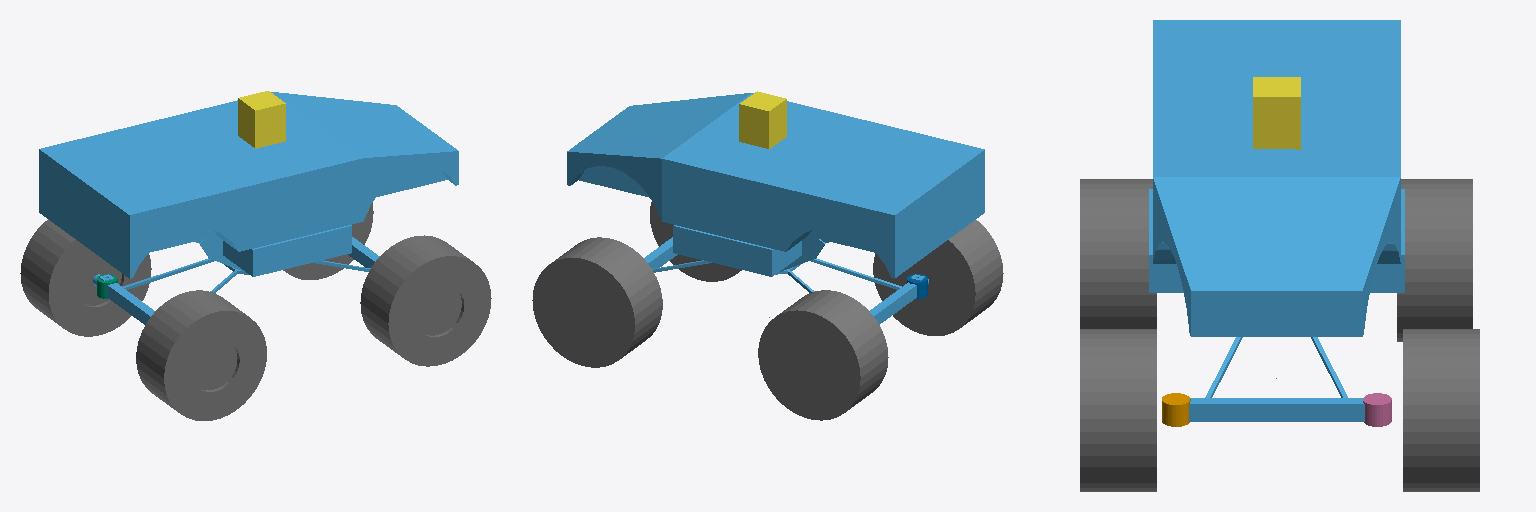
robot.urdf — summit:
<?xml version="1.0"?>
<robot name="summit" 

       xmlns:xi="http://www.w3.org/2001/XInclude"
       xmlns:gazebo="http://playerstage.sourceforge.net/gazebo/xmlschema/#gz"
       xmlns:model="http://playerstage.sourceforge.net/gazebo/xmlschema/#model"
       xmlns:sensor="http://playerstage.sourceforge.net/gazebo/xmlschema/#sensor"
       xmlns:body="http://playerstage.sourceforge.net/gazebo/xmlschema/#body"
       xmlns:geom="http://playerstage.sourceforge.net/gazebo/xmlschema/#geom"
       xmlns:joint="http://playerstage.sourceforge.net/gazebo/xmlschema/#joint"
       xmlns:interface="http://playerstage.sourceforge.net/gazebo/xmlschema/#interface"
       xmlns:rendering="http://playerstage.sourceforge.net/gazebo/xmlschema/#rendering"
       xmlns:renderable="http://playerstage.sourceforge.net/gazebo/xmlschema/#renderable"
       xmlns:controller="http://playerstage.sourceforge.net/gazebo/xmlschema/#controller"
       xmlns:physics="http://playerstage.sourceforge.net/gazebo/xmlschema/#physics">


  <!-- BASE FOOTPRINT -->

  <!-- base_footprint is a fictitious link(frame) that is on the ground right below base_link origin,
             navigation stack depends on this frame -->
  <link name="base_footprint">
      <inertial>
          <mass value="0.0001" />
          <origin xyz="0 0 0" />
      <inertia ixx="0.0001" ixy="0.0" ixz="0.0"
                         iyy="0.0001" iyz="0.0" 
                         izz="0.0001" />
      </inertial>

      <visual>
          <origin xyz="0 0 0" rpy="0 0 0" />
          <geometry>
             <box size="0.001 0.001 0.001" />
          </geometry>
      </visual>

      <collision>
          <origin xyz="0 0 0.0" rpy="0 0 0" />
          <geometry>
            <box size="0.001 0.001 0.001" />
         </geometry>
     </collision>
  </link>

  <gazebo reference="base_footprint">
    <material>Gazebo/Green</material>
    <turnGravityOff>false</turnGravityOff>
  </gazebo>

  <joint name="base_footprint_joint" type="fixed">
     <!--NB: While you would think this would make it go up, it is oddly reversed.
      This moves the joint to 0,0,0 where we want it for rviz, etc. -->
     <!-- origin xyz="0 0 0.130" rpy="0 0 0" / -->
     <origin xyz="0 0 0.050" rpy="0 0 0"/>
     <parent link="base_footprint"/>
     <child link="base_link" />
  </joint>


  <!-- BASE_LINK (RED) -->

  <link name="base_link">
    <inertial>
      <mass value="6.5" />
      <origin xyz="0 0 0" />
      <inertia  ixx="0.21805" ixy="0.0"  ixz="-0.001"  iyy="0.33677"  iyz="0.0"  izz="0.20511" />
    </inertial>
    <visual>
       <origin xyz="0 0 0" rpy="0 0 0" />
       <geometry>
	 <mesh filename="package://summit_description/meshes/summit_chassis.stl"/>
       </geometry>
    </visual>
    <collision>
       <origin xyz="0 0 0.06" rpy="0 0 0 " />
       <geometry>
         <mesh filename="package://summit_description/meshes/summit_chassis.stl"/>
	 <!-- box size = "0.56 0.4 0.2"/ -->
       </geometry>
    </collision>     
  </link>
  <gazebo reference="base_link">
    <material>Gazebo/Red</material>
    <turnGravityOff>false</turnGravityOff>
  </gazebo>

<!-- DIRECTION BACK LEFT         -->
<!-- =========================== -->

  <link name="back_left_wheel_dir">
    <inertial>
      <mass value="0.1" />
      <!-- center of mass (com) is defined w.r.t. link local coord system -->
      <origin xyz="0 0 0" />
      <inertia  ixx="0.01" ixy="0.0"  ixz="0.0"  iyy="0.01"  iyz="0.0"  izz="0.01" />
    </inertial>
    <visual>
       <!-- visual origin is defined w.r.t. link local coordinate system -->
       <origin xyz="0 0 0" rpy="0 0 1.5708" />
       <geometry>
         <cylinder radius="0.015" length="0.025"/>
         <!-- mesh filename="package://summit_description/meshes/wheel_axis.stl"/-->
       </geometry>
    </visual>
    <collision>
       <!-- collision origin is defined w.r.t. link local coord. system -->
       <origin xyz="0 0 0" rpy="0 0 0 " />
       <geometry>
         <cylinder radius="0.015" length="0.025"/>
       </geometry>
    </collision>
  </link>
  <gazebo reference="back_left_wheel_dir">
    <material>Gazebo/Green</material>
    <turnGravityOff>false</turnGravityOff>
  </gazebo>

  <joint name="joint_back_left_wheel_dir" type="revolute">
    <parent link="base_link"/>
    <child link="back_left_wheel_dir"/>
    <origin xyz="-0.185 0.105 0" rpy="0 0 0" />
    <axis xyz="0 0 1" rpy="0 0 0" />
    <limit effort="3.0" velocity="3.0" lower="-0.7854" upper="0.7854"/>
  </joint>

  <transmission name="joint_blw_trans_dir" type="pr2_mechanism_model/SimpleTransmission">
     <actuator name="joint_blw_motor_dir" />
     <joint name="joint_back_left_wheel_dir" />
     <mechanicalReduction>1</mechanicalReduction>
     <motorTorqueConstant>1</motorTorqueConstant>
  </transmission>


  <!-- BACK LEFT WHEEL -->
  <link name="back_left_wheel">
    <inertial>
      <mass value="1.023" />
      <origin xyz="0 0 0" /> 
      <inertia  ixx="0.0027" ixy="0.0"  ixz="0.0"  iyy="0.0039"  iyz="0.0"  izz="0.0027" />
    </inertial>
    <visual>
       <origin xyz="0 0 0" rpy="0 0 0" /> 
       <geometry>
	 <mesh filename="package://summit_description/meshes/wheel.stl"/>
       </geometry>
        <material name="grey">
             <color rgba="0.5 0.5 0.5 1"/>
        </material>
    </visual>
    <collision>
       <origin xyz="0 0 0" rpy="0 0 0" />
       <geometry>
         <mesh filename="package://summit_description/meshes/wheel.stl"/>
       </geometry>
    </collision>
  </link>
  <gazebo reference="back_left_wheel">
    <mu1 value="50.0"/> <!-- 50.0 2.0 -->
    <mu2 value="50.0"/> <!-- 0.5 0.5 -->
    <fdir1 value="1 0 0"/>
    <material>Gazebo/Grey</material>
    <turnGravityOff>false</turnGravityOff>
  </gazebo>

  <joint name="joint_back_left_wheel" type="continuous">
    <parent link="back_left_wheel_dir"/>
    <child link="back_left_wheel"/>
    <origin xyz="0.0 0.060 0" rpy="0 0 0" /> 
    <axis xyz="0 1 0" rpy="0 0 0" />
    <limit effort="100" velocity="100"/>
    <joint_properties damping="0.0" friction="0.0"/>
  </joint>

  <transmission name="joint_blw_trans" type="pr2_mechanism_model/SimpleTransmission">
     <actuator name="joint_blw_motor" />
     <joint name="joint_back_left_wheel" />
     <mechanicalReduction>1</mechanicalReduction>
     <motorTorqueConstant>1</motorTorqueConstant>
  </transmission>

<!-- DIRECTION BACK RIGHT        -->
<!-- =========================== -->
  <link name="back_right_wheel_dir">
    <inertial>
      <mass value="0.1" />
      <!-- center of mass (com) is defined w.r.t. link local coord system -->
      <origin xyz="0 0 0" />
      <inertia  ixx="0.01" ixy="0.0"  ixz="0.0"  iyy="0.01"  iyz="0.0"  izz="0.01" />
    </inertial>
    <visual>
       <!-- visual origin is defined w.r.t. link local coordinate system -->
       <origin xyz="0 0 0" rpy="0 0 0" />
       <geometry>
         <cylinder radius="0.015" length="0.025"/>
       </geometry>
    </visual>
    <collision>
       <!-- collision origin is defined w.r.t. link local coord. system -->
       <origin xyz="0 0 0" rpy="0 0 0 " />
       <geometry>
         <cylinder radius="0.015" length="0.025"/>      
       </geometry>
    </collision>
  </link>
  <gazebo reference="back_right_wheel_dir">
    <material>Gazebo/Green</material>
    <turnGravityOff>false</turnGravityOff>
  </gazebo>

  <joint name="joint_back_right_wheel_dir" type="revolute">
    <parent link="base_link"/>
    <child link="back_right_wheel_dir"/>
    <origin xyz="-0.185 -0.105 0" rpy="0 0 0" />
    <axis xyz="0 0 1" rpy="0 0 0" />
    <limit effort="3.0" velocity="3.0" lower="-0.7854" upper="0.7854"/>
  </joint>

  <transmission name="joint_brw_trans_dir" type="pr2_mechanism_model/SimpleTransmission">
     <actuator name="joint_brw_motor_dir" />
     <joint name="joint_back_right_wheel_dir" />
     <mechanicalReduction>1</mechanicalReduction>
     <motorTorqueConstant>1</motorTorqueConstant>
  </transmission>

  <!-- BACK RIGHT WHEEL -->
  <link name="back_right_wheel">
    <inertial>
      <mass value="1.023" />
      <origin xyz="0 0 0" />
      <inertia  ixx="0.0027" ixy="0.0"  ixz="0.0"  iyy="0.0039"  iyz="0.0"  izz="0.0027" />
    </inertial>
    <visual>
       <origin xyz="0 0 0" rpy="0 0 0" /> 
       <geometry>
	 <!--mesh filename="package://guardian_description/meshes/wheel_link.dae" scale="1.8 1.8 1.8"/ -->
         <mesh filename="package://summit_description/meshes/wheel.stl"/>
       </geometry>
        <material name="grey">
                <color rgba="0.5 0.5 0.5 1"/>
        </material>
    </visual>
    <collision>
       <origin xyz="0 0 0" rpy="0 0 0" /> 
       <geometry>
	 <!-- mesh filename="package://guardian_description/meshes/wheel_link.dae" scale="1.8 1.8 1.8"/ -->
         <mesh filename="package://summit_description/meshes/wheel.stl"/>
       </geometry>
    </collision>
  </link>
  <gazebo reference="back_right_wheel">
    <mu1 value="50.0"/> <!-- 50.0 2.0 -->
    <mu2 value="50.0"/> <!-- 0.5 0.5 -->
    <fdir1 value="1 0 0"/>
    <material>Gazebo/Grey</material>
    <turnGravityOff>false</turnGravityOff>
  </gazebo>

  <joint name="joint_back_right_wheel" type="continuous">
    <parent link="back_right_wheel_dir"/>
    <child link="back_right_wheel"/>
    <origin xyz="0.0 -0.060 0" rpy="0 0 0" />
    <axis xyz="0 1 0" />
    <limit effort="100" velocity="100"/>
    <joint_properties damping="0.0" friction="0.0"/>
  </joint>

  <transmission name="joint_brw_trans" type="pr2_mechanism_model/SimpleTransmission">
     <actuator name="joint_brw_motor" />
     <joint name="joint_back_right_wheel" />
     <mechanicalReduction>1</mechanicalReduction>
     <motorTorqueConstant>1</motorTorqueConstant>
  </transmission>

<!-- DIRECTION FORWARD LEFT      -->
<!-- =========================== -->

  <link name="front_left_wheel_dir">
    <inertial>
      <mass value="0.1" />
      <!-- center of mass (com) is defined w.r.t. link local coord system -->
      <origin xyz="0 0 0" />
      <inertia  ixx="0.01" ixy="0.0"  ixz="0.0"  iyy="0.01"  iyz="0.0"  izz="0.01" />
    </inertial>
    <visual>
       <!-- visual origin is defined w.r.t. link local coordinate system -->
       <origin xyz="0 0 0" rpy="0 0 0" />
       <geometry>
         <cylinder radius="0.015" length="0.025"/>
       </geometry>
    </visual>
    <collision>
       <!-- collision origin is defined w.r.t. link local coord. system -->
       <origin xyz="0 0 0" rpy="0 0 0 " />
       <geometry>
         <cylinder radius="0.015" length="0.025"/>
       </geometry>
    </collision>
  </link>
  <gazebo reference="front_left_wheel_dir">
    <material>Gazebo/Green</material>
    <turnGravityOff>false</turnGravityOff>
  </gazebo>

  <joint name="joint_front_left_wheel_dir" type="revolute">
    <parent link="base_link"/>
    <child link="front_left_wheel_dir"/>
    <origin xyz="0.185 0.105 0" rpy="0 0 0" />
    <axis xyz="0 0 1" rpy="0 0 0" />
    <limit effort="3.0" velocity="3.0" lower="-0.7854" upper="0.7854"/>
  </joint>

  <transmission name="joint_flw_trans_dir" type="pr2_mechanism_model/SimpleTransmission">
     <actuator name="joint_flw_motor_dir" />
     <joint name="joint_front_left_wheel_dir" />
     <mechanicalReduction>1</mechanicalReduction>
     <motorTorqueConstant>1</motorTorqueConstant>
  </transmission>

  <!-- FRONT LEFT WHEEL (GREY) -->
  <link name="front_left_wheel">
    <inertial>
      <mass value="1.023" />
      <origin xyz="0 0 0" />
      <inertia  ixx="0.0027" ixy="0.0"  ixz="0.0"  iyy="0.0039"  iyz="0.0"  izz="0.0027" />
    </inertial>
    <visual>
       <origin xyz="0 0 0" rpy="0 0 0" /> 
       <geometry>
	 <!-- mesh filename="package://guardian_description/meshes/wheel_link.dae" scale="1.8 1.8 1.8"/ -->
         <mesh filename="package://summit_description/meshes/wheel.stl"/>
       </geometry>
	<material name="gray">
		<color rgba="0.5 0.5 0.5 1"/>
      	</material>
    </visual>
    <collision>
       <origin xyz="0 0 0" rpy="0 0 0" /> 
       <geometry>
	 <!-- mesh filename="package://guardian_description/meshes/wheel_link.dae" scale="1.8 1.8 1.8"/ -->
         <mesh filename="package://summit_description/meshes/wheel.stl"/>
       </geometry>
    </collision>
  </link>
  <gazebo reference="front_left_wheel">
    <mu1 value="50.0"/> <!-- 50.0 2.0 -->
    <mu2 value="50.0"/> <!-- 0.5 0.5 -->
    <fdir1 value="1 0 0"/>
    <material>Gazebo/Grey</material>
    <turnGravityOff>false</turnGravityOff>
  </gazebo>

  <joint name="joint_front_left_wheel" type="continuous">
    <parent link="front_left_wheel_dir"/>
    <child link="front_left_wheel"/>
    <origin xyz="0.0 0.0666666 0.0" rpy="0 0 0" />
    <axis xyz="0 1 0" />
    <limit effort="100" velocity="100"/>
    <joint_properties damping="0.0" friction="0.0"/>
  </joint>

  <transmission name="joint_flw_trans" type="pr2_mechanism_model/SimpleTransmission">
     <actuator name="joint_flw_motor" />
     <joint name="joint_front_left_wheel" />
     <mechanicalReduction>1</mechanicalReduction>
     <motorTorqueConstant>1</motorTorqueConstant>
  </transmission>


<!-- DIRECTION FORWARD RIGHT     -->
<!-- =========================== -->

  <link name="front_right_wheel_dir">
    <inertial>
      <mass value="0.1" />
      <!-- center of mass (com) is defined w.r.t. link local coord system -->
      <origin xyz="0 0 0" />
      <inertia  ixx="0.01" ixy="0.0"  ixz="0.0"  iyy="0.01"  iyz="0.0"  izz="0.01" />
    </inertial>
    <visual>
       <!-- visual origin is defined w.r.t. link local coordinate system -->
       <origin xyz="0 0 0" rpy="0 0 0" />
       <geometry>
         <cylinder radius="0.015" length="0.025"/>
       </geometry>
    </visual>
    <collision>
       <!-- collision origin is defined w.r.t. link local coord. system -->
       <origin xyz="0 0 0" rpy="0 0 0 " />
       <geometry>
         <cylinder radius="0.015" length="0.025"/>
       </geometry>
    </collision>
  </link>
  <gazebo reference="front_left_wheel_dir">
    <material>Gazebo/Green</material>
    <turnGravityOff>false</turnGravityOff>
  </gazebo>

  <joint name="joint_front_right_wheel_dir" type="revolute">
    <parent link="base_link"/>
    <child link="front_right_wheel_dir"/>
    <origin xyz="0.185 -0.105 0" rpy="0 0 0" />
    <axis xyz="0 0 1" rpy="0 0 0" />
    <limit effort="3.0" velocity="3.0" lower="-0.7854" upper="0.7854"/>
  </joint>

  <transmission name="joint_frw_trans_dir" type="pr2_mechanism_model/SimpleTransmission">
     <actuator name="joint_frw_motor_dir" />
     <joint name="joint_front_right_wheel_dir" />
     <mechanicalReduction>1</mechanicalReduction>
     <motorTorqueConstant>1</motorTorqueConstant>
  </transmission>


  <!-- FRONT RIGHT WHEEL (GREY) -->

  <link name="front_right_wheel">
    <inertial>
      <mass value="1.023" />
      <origin xyz="0 0 0" />
      <inertia  ixx="0.0027" ixy="0.0"  ixz="0.0"  iyy="0.0039"  iyz="0.0"  izz="0.0027" />
    </inertial>
    <visual>
       <origin xyz="0 0 0" rpy="0 0 0" /> 
       <geometry>
	 <!-- mesh filename="package://guardian_description/meshes/wheel_link.dae" scale="1.8 1.8 1.8"/ -->
         <mesh filename="package://summit_description/meshes/wheel.stl"/>
       </geometry>
	<material name="grey">
		<color rgba="0.5 0.5 0.5 1"/>
      	</material>
    </visual>
    <collision>
       <origin xyz="0 0 0" rpy="0 0 0" /> 
       <geometry>
	 <!-- mesh filename="package://guardian_description/meshes/wheel_link.dae" scale="1.8 1.8 1.8"/ -->
         <mesh filename="package://summit_description/meshes/wheel.stl"/>
       </geometry>
    </collision>
  </link>
  <gazebo reference="front_right_wheel">
    <mu1 value="50.0"/> <!-- 50.0 2.0 -->
    <mu2 value="50.0"/> <!-- 0.5 0.5 -->
    <fdir1 value="1 0 0"/>
    <material>Gazebo/Grey</material>
    <turnGravityOff>false</turnGravityOff>
  </gazebo>

  <joint name="joint_front_right_wheel" type="continuous">
    <parent link="front_right_wheel_dir"/>
    <child link="front_right_wheel"/>
    <origin xyz="0.0 -0.06 0" rpy="0 0 0" />
    <axis xyz="0 1 0" />
    <limit effort="100" velocity="100"/>
    <joint_properties damping="0.0" friction="0.0"/>
  </joint>

  <transmission name="joint_frw_trans" type="pr2_mechanism_model/SimpleTransmission">
     <actuator name="joint_frw_motor" />
     <joint name="joint_front_right_wheel" />
     <mechanicalReduction>1</mechanicalReduction>
     <motorTorqueConstant>1</motorTorqueConstant>
  </transmission>

  <!-- RPLIDAR SENSOR -->
  <joint name="rplidar_laser_joint" type="fixed">
     <axis xyz="0 1 0" />
     <origin xyz="0.01 0 0.24" rpy="0 0 -3.15"/>
     <parent link="base_link"/>
     <child link="rplidar_laser_link"/>
  </joint>
  <link name="rplidar_laser_link" type="laser">
     <inertial>
       <mass value="0.001" />
       <origin xyz="0 0 0" rpy="0 0 0" />
       <inertia ixx="0.0001" ixy="0" ixz="0" iyy="0.000001" iyz="0" izz="0.0001" />
    </inertial>
  </link>

  <!-- This adds a visual box to allow us to see the rplidar in rviz/gazebo -->
  <joint name="rplidar_laser_box_joint" type="fixed">
    <origin xyz="0 0 0" rpy="0 0 0" />
    <parent link="rplidar_laser_link" />
    <child link="rplidar_laser_box_link"/>
  </joint>
  <link name="rplidar_laser_box_link">
    <inertial>
      <mass value="0.01" />
      <origin xyz="0 0 0" />
      <inertia ixx="0.001"  ixy="0.0"  ixz="0.0"
               iyy="0.001"  iyz="0.0"
               izz="0.001" />
    </inertial>
    <visual>
      <origin xyz="0 0 0" rpy="0 0 0"/>
      <geometry>
        <box size="0.05 0.05 0.1" />
      </geometry>
    </visual>
    <collision>
      <origin xyz="0 0 0" rpy="0 0 0"/>
      <geometry>
        <box size="0.05 0.05 0.1" />
      </geometry>
    </collision>
  </link>

  <!-- IMU SENSOR -->

  <joint name="imu_joint" type="fixed">
      <axis xyz="1 0 0"/> <!-- 0 1 0 -->
      <origin xyz="0 0 0.2825"/>
      <parent link="base_link"/>
      <child link="imu_link"/>
  </joint>


  <link name="imu_link">
      <inertial>
        <mass value="0.001"/>
        <origin rpy="0 0 0" xyz="0 0 0"/>
        <inertia ixx="0.0001" ixy="0" ixz="0" iyy="0.000001" iyz="0" izz="0.0001"/>
      </inertial>
      <visual>
        <origin rpy="0 0 0" xyz="0 0 0"/>
        <geometry>
          <box size="0.001 0.001 0.001"/>
        </geometry>
      </visual>
      <collision>
        <origin rpy="0 0 0" xyz="0 0 0"/>
        <geometry>
          <box size=".001 .001 .001"/>
        </geometry>
      </collision>
  </link>

  <!-- Gazebo controllers -->
  <gazebo>
     <!-- controller:gazebo_ros_time name="gazebo_ros_time" plugin="libgazebo_ros_time.so">
       <alwaysOn>true</alwaysOn>
       <updateRate>1000.0</updateRate>
       <interface:audio name="dummy_gazebo_ros_time_iface_should_not_be_here"/>
     </controller:gazebo_ros_time -->

      <!-- PR2_ACTARRAY -->
     <controller:gazebo_ros_controller_manager name="gazebo_ros_controller_manager" plugin="libgazebo_ros_controller_manager.so">
       <alwaysOn>true</alwaysOn>
       <updateRate>1000.0</updateRate>
       <interface:audio name="gazebo_ros_controller_manager_dummy_iface" />
     </controller:gazebo_ros_controller_manager>
  </gazebo>

  <!-- Other controllers (HOKUYO SENSOR) -->

  <gazebo reference = "hokuyo_laser_link">
    <sensor:ray name="hokuyo_laser">
       <rayCount>640</rayCount>
       <rangeCount>640</rangeCount>
       <laserCount>1</laserCount>

       <origin>0.0 0.0 0.0</origin>
       <displayRays>fan</displayRays>

       <minAngle>-120.0</minAngle>
       <maxAngle>120.0</maxAngle>
     
       <minRange>0.05</minRange>
       <maxRange>4.0</maxRange>
       <resRange>0.001</resRange>
       <updateRate>10.0</updateRate>
       <controller:gazebo_ros_laser name="gazebo_ros_hokuyo_laser_controller" plugin="libgazebo_ros_laser.so">
         <gaussianNoise>0.005</gaussianNoise>
         <alwaysOn>true</alwaysOn>
         <updateRate>10.0</updateRate>
         <topicName>hokuyo_laser_topic</topicName>
         <frameName>hokuyo_laser_link</frameName>
         <interface:laser name="gazebo_ros_hokuyo_laser_iface" />
       </controller:gazebo_ros_laser>
    </sensor:ray>
   </gazebo>

   <!-- Other controllers (IMU SENSOR) -->

  <!--gazebo reference = "imu_link">
      <material>Gazebo/Green</material>
      <turnGravityOff>false</turnGravityOff>
      <controller:gazebo_ros_imu name="imu_controller" plugin="libgazebo_ros_imu.so">
         <alwaysOn>true</alwaysOn>
         <updateRate>50.0</updateRate>
         <bodyName>imu_link</bodyName>
         <topicName>imu_data</topicName>
         <xyzOffsets>0 0 0</xyzOffsets--> <!-- option to initialize odometry for fake localization-->
         <!--rpyOffsets>0 0 0</rpyOffsets>
	 <gaussianNoise>0.01</gaussianNoise>
	 <frameName>map</frameName>
         <interface:position name="imu_base_position"/--> <!--imu_position_iface-->
      <!--/controller:gazebo_ros_imu>
  </gazebo-->

  <gazebo>
    <controller:gazebo_ros_imu name="imu_controller" plugin="libgazebo_ros_imu.so">
      <alwaysOn>true</alwaysOn>
      <updateRate>50.0</updateRate> <!-- 100 -->
      <bodyName>imu_link</bodyName>
      <topicName>imu_data</topicName>
      <gaussianNoise>2.89e-08</gaussianNoise>
      <xyzOffsets>0 0 0</xyzOffsets>
      <rpyOffsets>0 0 0</rpyOffsets>
      <interface:position name="imu_position"/>
    </controller:gazebo_ros_imu>
  </gazebo>

</robot>

--- Facts derived from the render (not from the file) ---
Views: 3 orthographic renders of the robot side by side, from view 1: azimuth 30°, elevation 25°; view 2: azimuth 150°, elevation 25°; view 3: azimuth 270°, elevation 25°.
Model summit with 13 links and 12 joints (4 revolute, 4 continuous, 4 fixed), rooted at base_footprint, posed all joints at 0.
Links seen in each view (by area): view 1: base_link, back_right_wheel, front_right_wheel, back_left_wheel, rplidar_laser_box_link, front_left_wheel; view 2: base_link, front_left_wheel, back_left_wheel, back_right_wheel, rplidar_laser_box_link, front_right_wheel; view 3: base_link, front_left_wheel, front_right_wheel, back_right_wheel, back_left_wheel, rplidar_laser_box_link, front_left_wheel_dir, front_right_wheel_dir.
Link boxes in pixels (x1,y1,x2,y2): base_link: [39, 92, 458, 324]; back_right_wheel: [136, 290, 266, 420]; front_right_wheel: [360, 235, 491, 366]; back_left_wheel: [20, 219, 151, 336]; rplidar_laser_box_link: [238, 91, 285, 148]; front_left_wheel: [283, 203, 373, 279]; base_link: [567, 93, 984, 324]; front_left_wheel: [532, 237, 662, 367]; back_left_wheel: [758, 290, 888, 420]; back_right_wheel: [873, 220, 1003, 335]; rplidar_laser_box_link: [739, 91, 786, 148]; front_right_wheel: [650, 202, 741, 281]; base_link: [1149, 20, 1404, 421]; front_left_wheel: [1403, 329, 1479, 491]; front_right_wheel: [1080, 329, 1156, 491]; back_right_wheel: [1080, 179, 1156, 328]; back_left_wheel: [1397, 179, 1472, 341]; rplidar_laser_box_link: [1253, 77, 1300, 149]; front_left_wheel_dir: [1363, 393, 1391, 426]; front_right_wheel_dir: [1162, 393, 1190, 426].
Bounding box of the posed robot: 0.5665 × 0.4167 × 0.3747 m (x, y, z).
Meshes: 2 distinct files referenced, 5 mesh visuals loaded (2 binary STL).